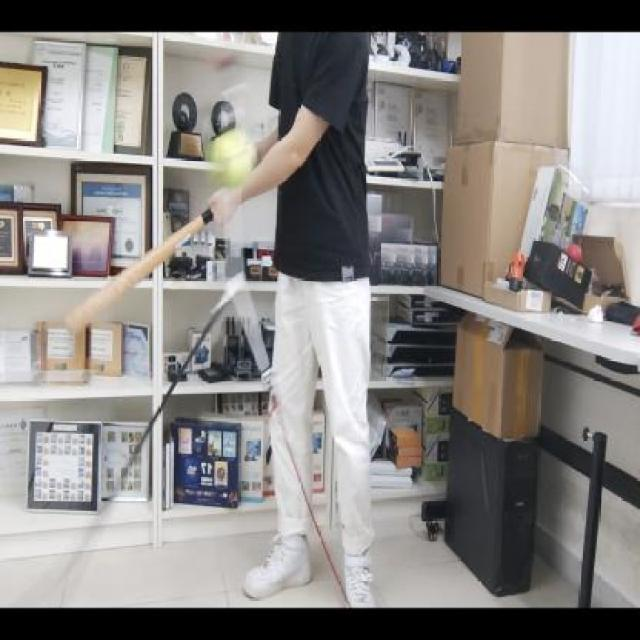baseball: (209, 128, 256, 194)
